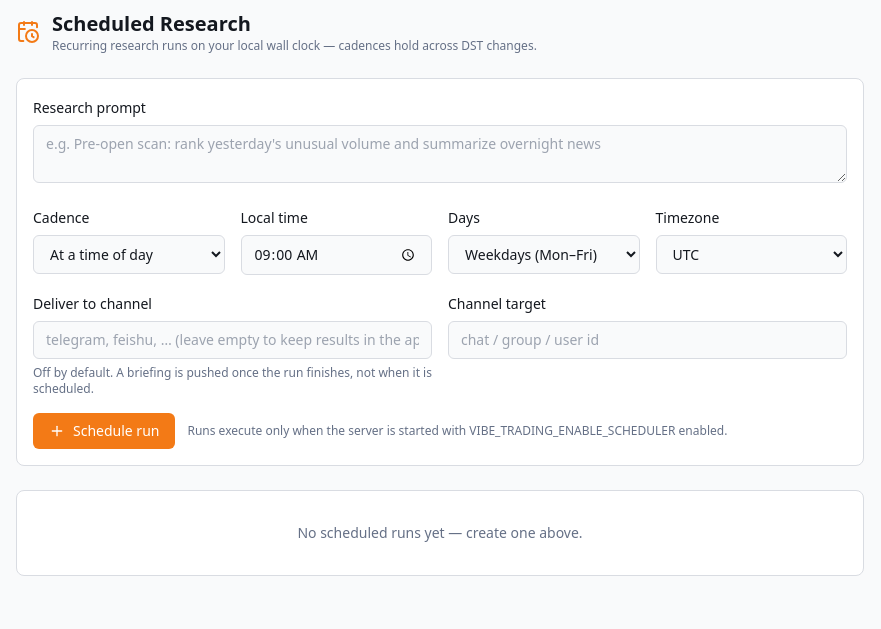
Scheduled page › surfaces a validation error from the backend
Expected: the text "No scheduled runs yet — create one above." is shown, [297,523,583,542]
Replace the text in the text box labelled "Research prompt" with "scan": (440, 154) [33,125,847,183]
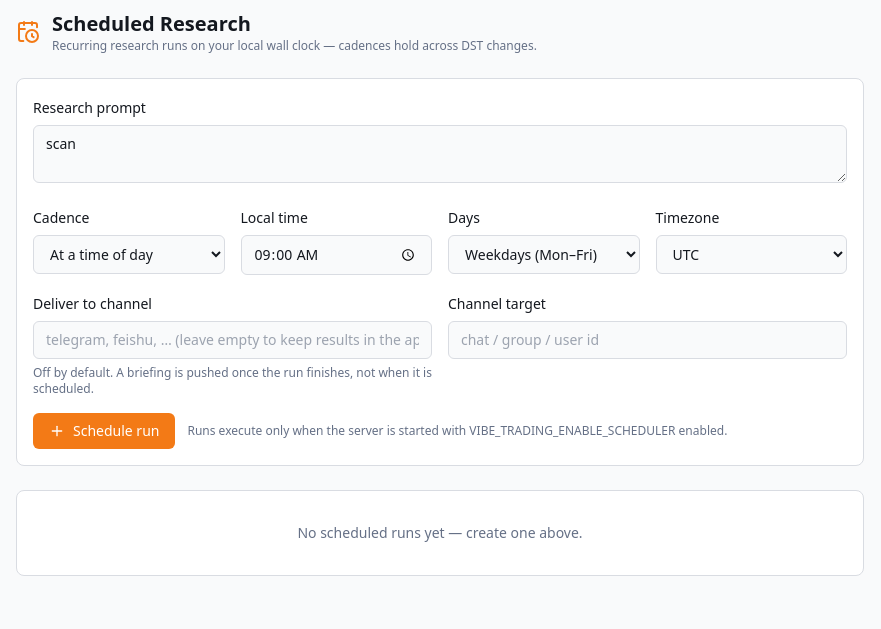
Submit the form from the button "Schedule run", box [33,413,176,449]
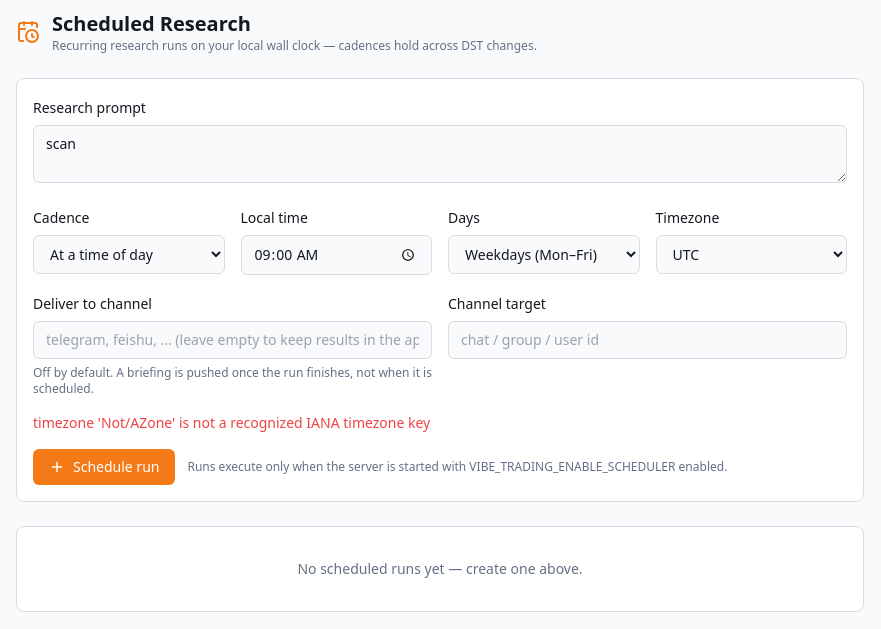
Now the message shows "not a recognized IANA timezone", box [33,413,430,432]
